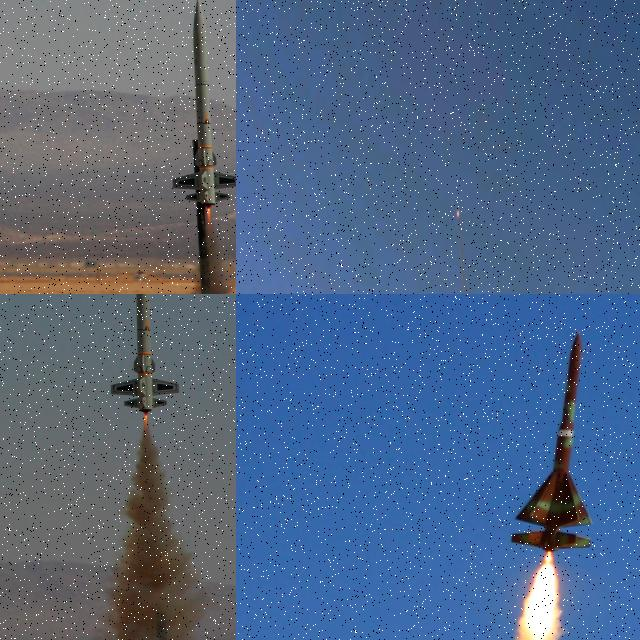Rocket: (510, 329, 594, 552), (171, 0, 236, 208), (107, 294, 181, 415), (457, 209, 459, 215)
